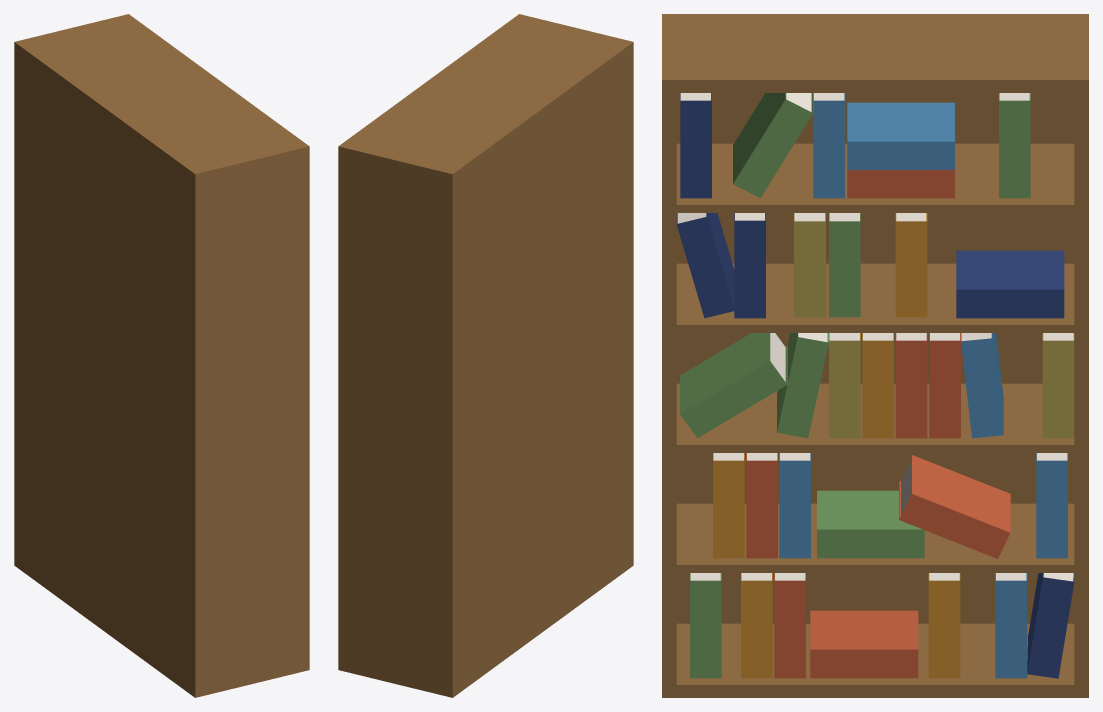
The model's file is bookshelf_halffull.glb.
The picture shows the model from 3 angles, left to right: view 1: azimuth 30°, elevation 25°; view 2: azimuth 150°, elevation 25°; view 3: azimuth 270°, elevation 25°; orthographic projection. The views are drawn at different scales.
Parts seen in each view (by area): view 1: book.013; view 2: book.013; view 3: book.013.
Boxes of the visible parts, bbox=[...] form: book.013: bbox=[14, 14, 309, 697]; book.013: bbox=[338, 14, 633, 697]; book.013: bbox=[662, 14, 1088, 697].
Bounding box in the file's own units: 2 × 8.75 × 5.48.
